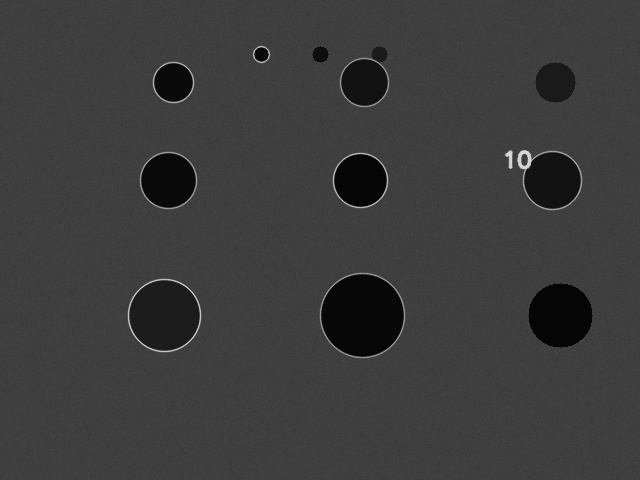hole: (320, 273, 404, 357), (128, 279, 200, 351), (528, 283, 592, 347), (523, 151, 581, 209), (140, 152, 196, 208), (333, 153, 387, 207), (340, 58, 388, 106), (153, 62, 193, 102), (535, 62, 575, 102), (253, 46, 269, 62), (312, 46, 328, 62), (371, 46, 387, 62)
